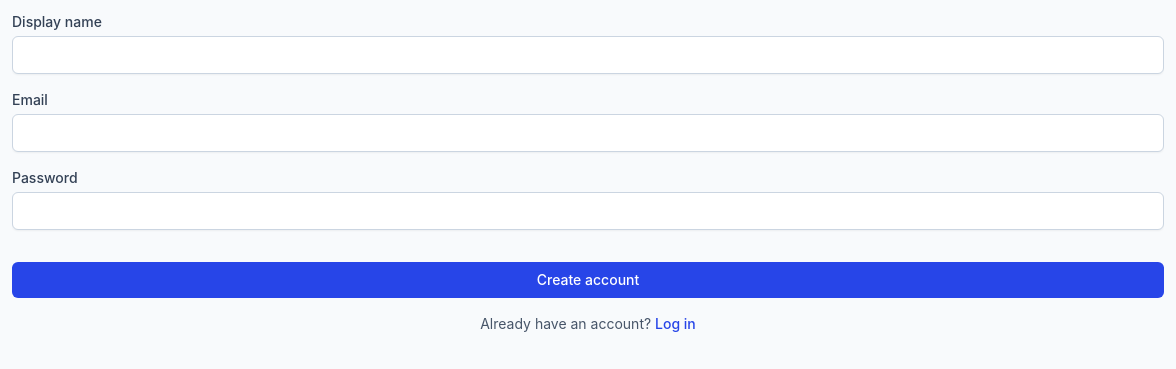
Test: RegisterForm › shows an error for a malformed (but non-empty) email
In the field labelled "Display name": (588, 55) [12, 36, 1164, 74], type "Test User"
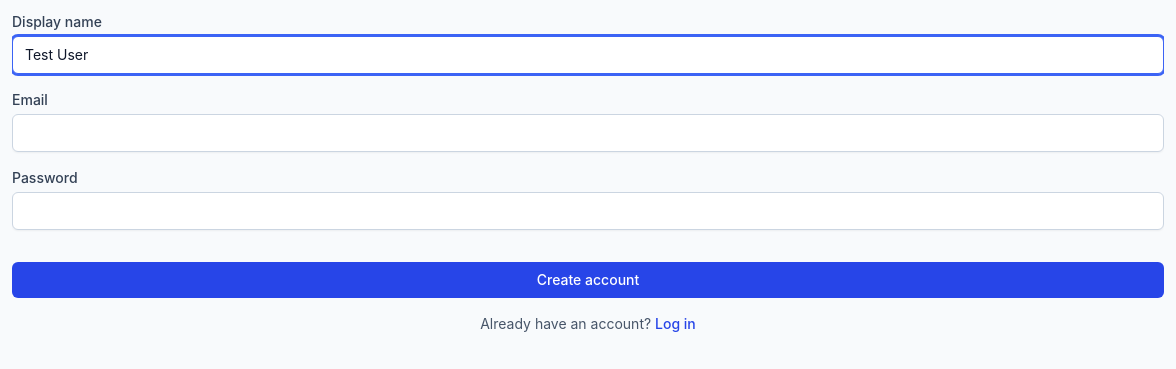
In the field labelled "Email": (588, 133) [12, 114, 1164, 152], type "not-an-email"
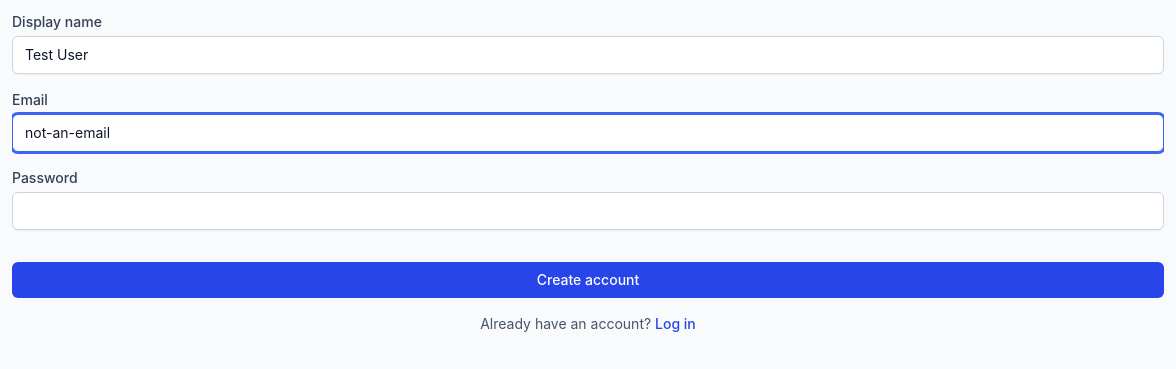
In the password field labelled "Password": (588, 211) [12, 192, 1164, 230], type "a-valid-password"
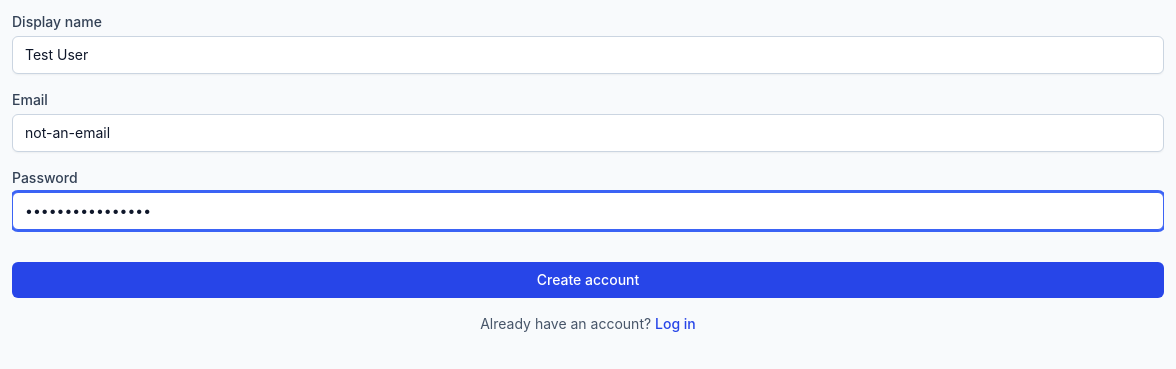
Click the button "Create account": (588, 280) [12, 262, 1164, 298]
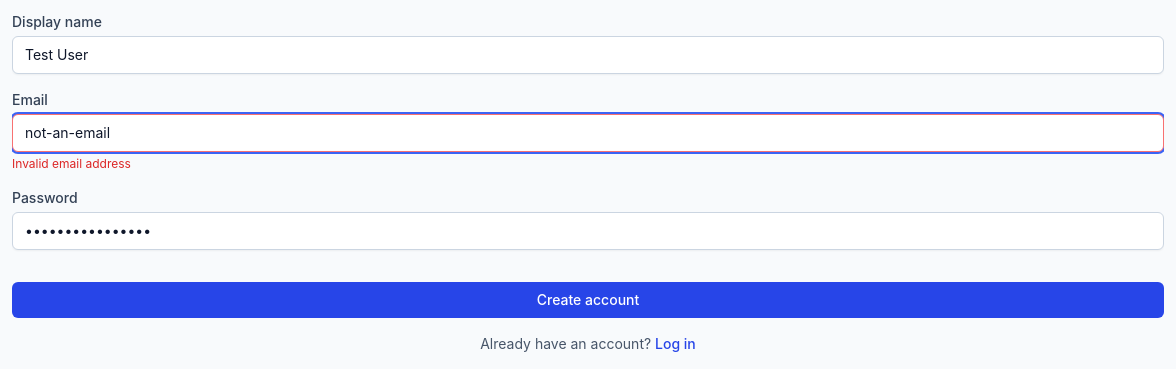
Check: the text "Invalid email address" is shown, box [12, 156, 131, 171]
